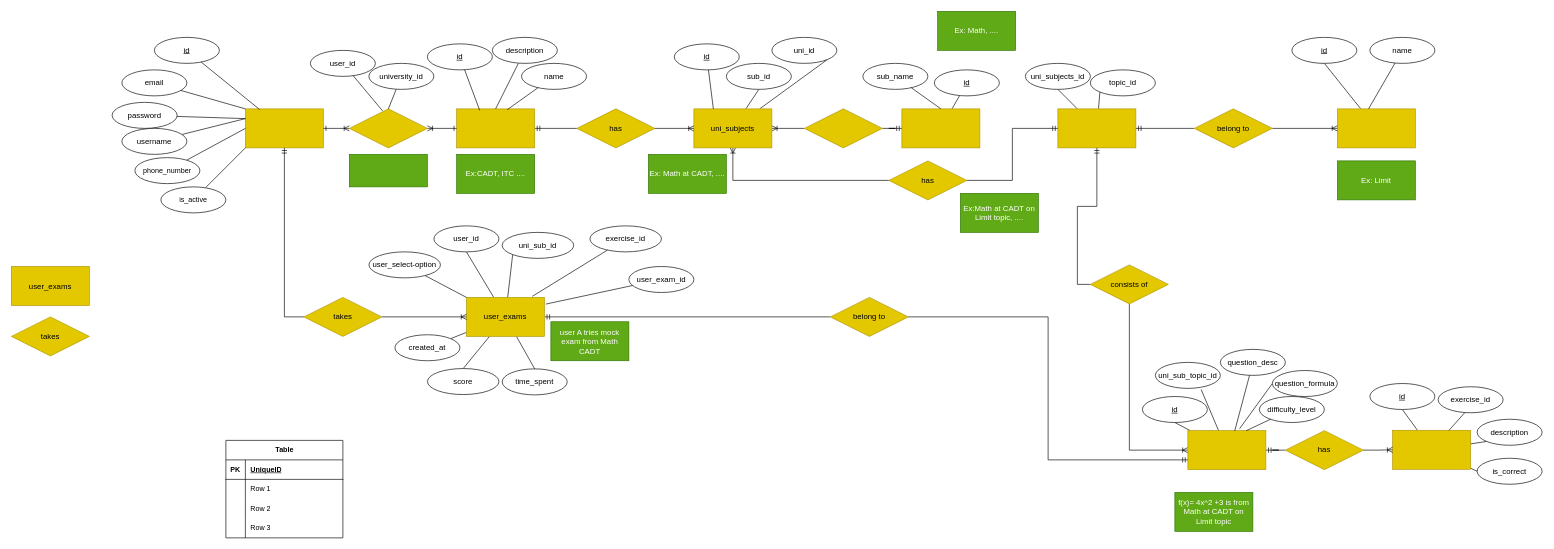
The diagram is 1554 pixels wide and 549 high, and some of its shapes have lost their labels. The centre of each missing label's shape, as x and y in pixels:
"contains" goes at pixel 843 128.
"exercise_options" goes at pixel 1431 449.
"exercises" goes at pixel 1226 450.
"selects user_uni" goes at pixel 388 128.
"store user history of university preferences User A selects CADT" goes at pixel 388 170.
"subjects" goes at pixel 940 128.
"topics" goes at pixel 1376 128.
"uni_sub_topics" goes at pixel 1096 128.
"universities" goes at pixel 495 128.
"users" goes at pixel 284 128.
